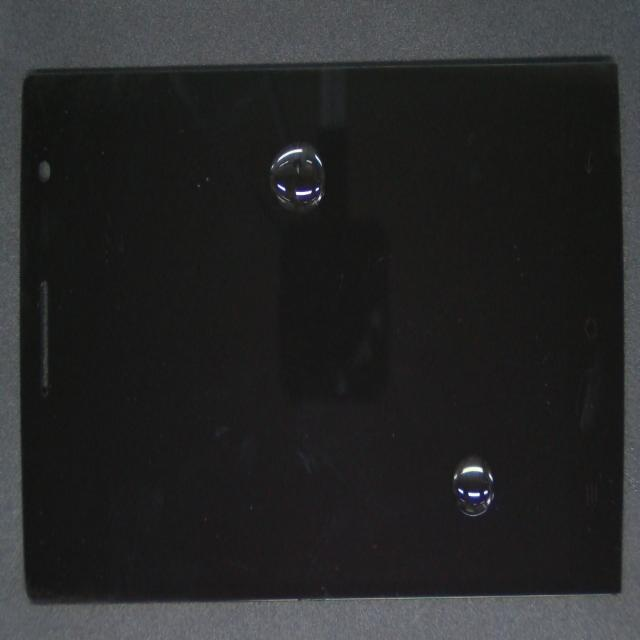oil: (261, 232, 640, 640), (186, 103, 483, 237)
